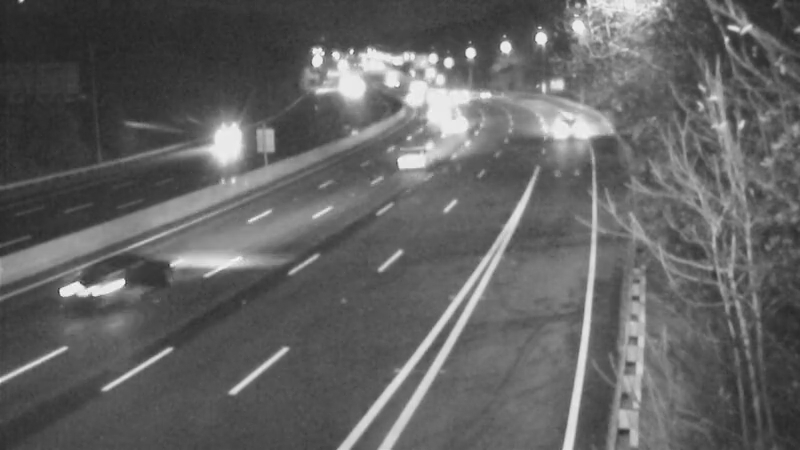vehicle: (379, 113, 459, 193), (48, 250, 128, 330), (432, 72, 482, 122), (388, 75, 438, 125), (461, 69, 511, 119), (416, 75, 466, 125), (411, 84, 461, 134), (535, 104, 585, 154), (429, 100, 479, 150), (208, 119, 258, 169)
